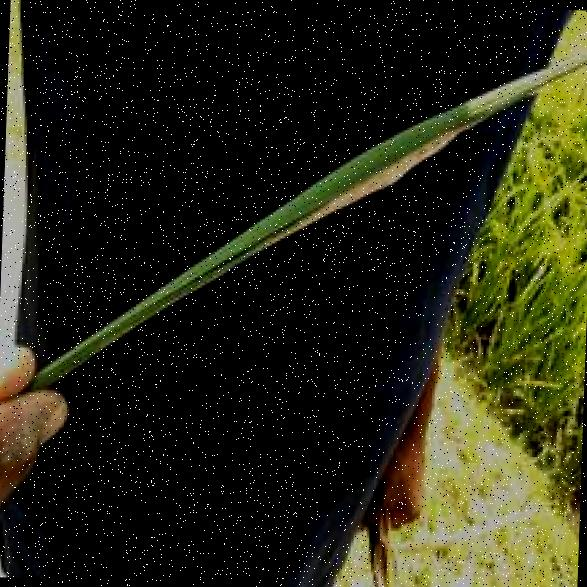Bacteria_Leaf_Blight: (299, 113, 491, 219)
